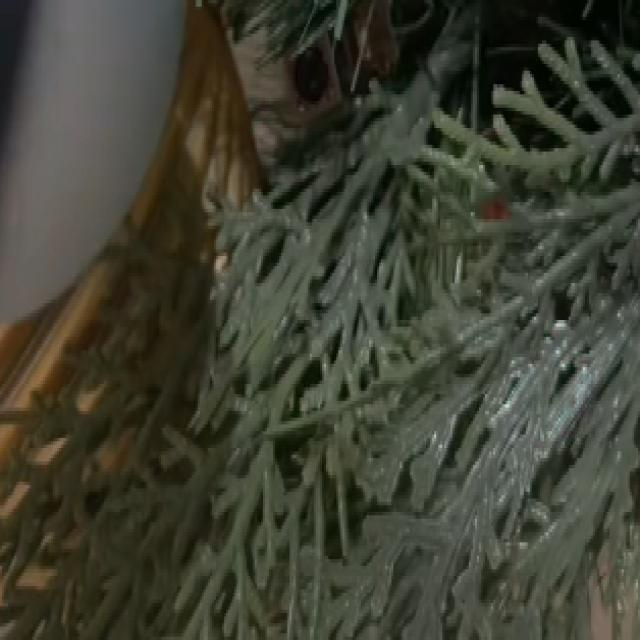hidden camera: (297, 53, 323, 100)
